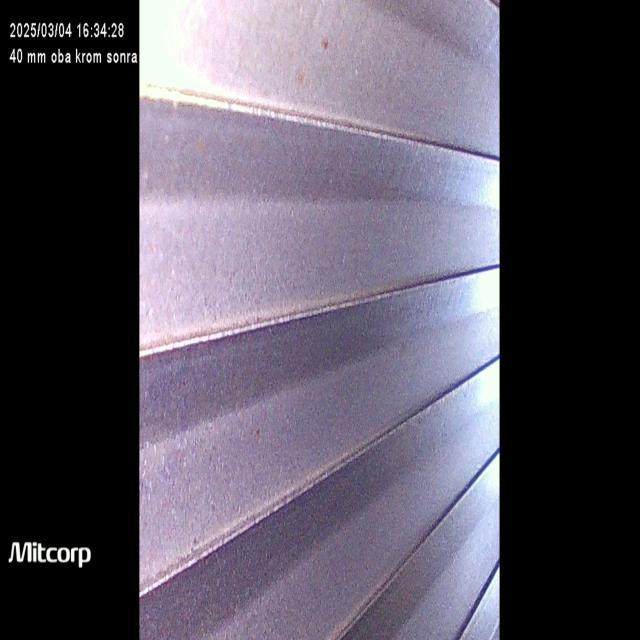hata_4.2: (313, 27, 352, 79), (250, 414, 270, 458), (188, 524, 205, 562), (292, 67, 312, 97), (394, 329, 412, 362), (414, 405, 428, 438)
